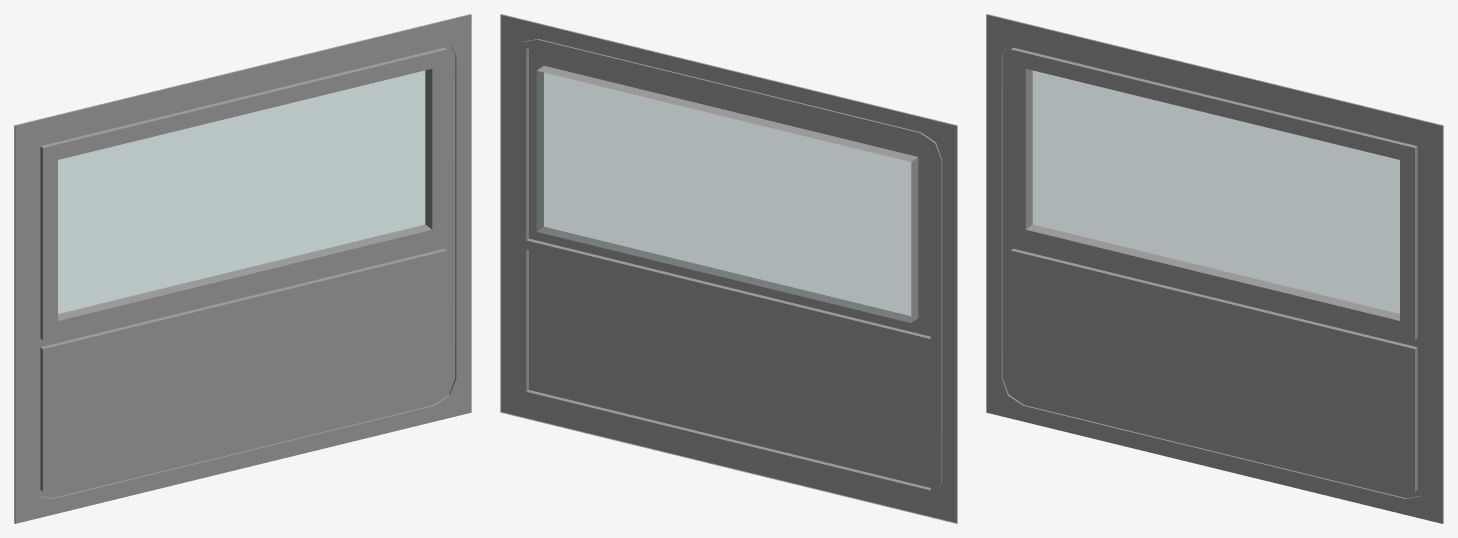
The model's file is Wall_C_Window1.fbx.
3 renders of one model, left to right at view 1: azimuth 30°, elevation 25°; view 2: azimuth 150°, elevation 25°; view 3: azimuth 330°, elevation 25°, orthographic.
Parts seen in each view (by area): view 1: Wall_C_Window1; view 2: Wall_C_Window1; view 3: Wall_C_Window1.
Boxes of the visible parts, x1,y1,x2,y2 form: Wall_C_Window1: [14, 14, 471, 523]; Wall_C_Window1: [500, 14, 957, 523]; Wall_C_Window1: [986, 14, 1443, 523].
Size of the model in its own units: 3 by 0.0809 by 2.5.
